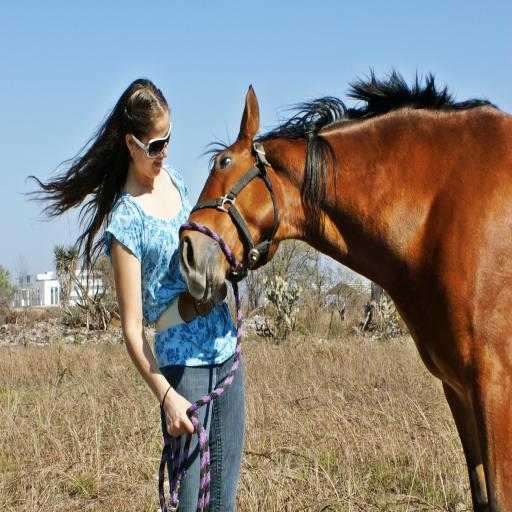Horse: (179, 65, 511, 511)
